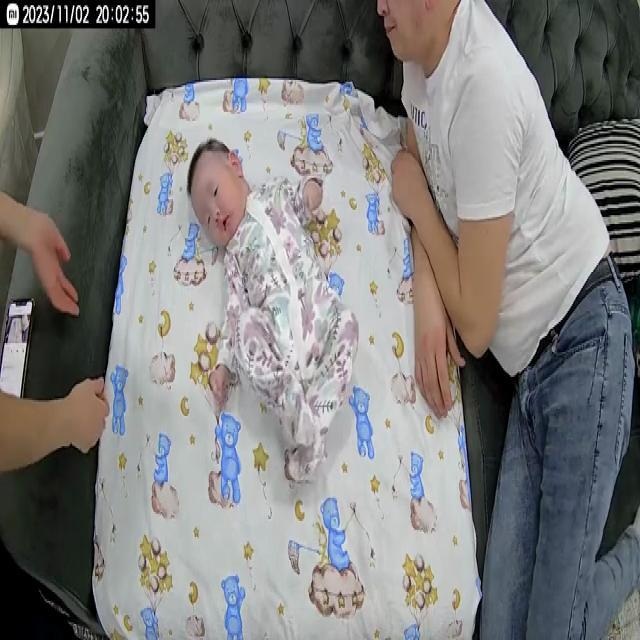baby: (184, 136, 362, 490)
